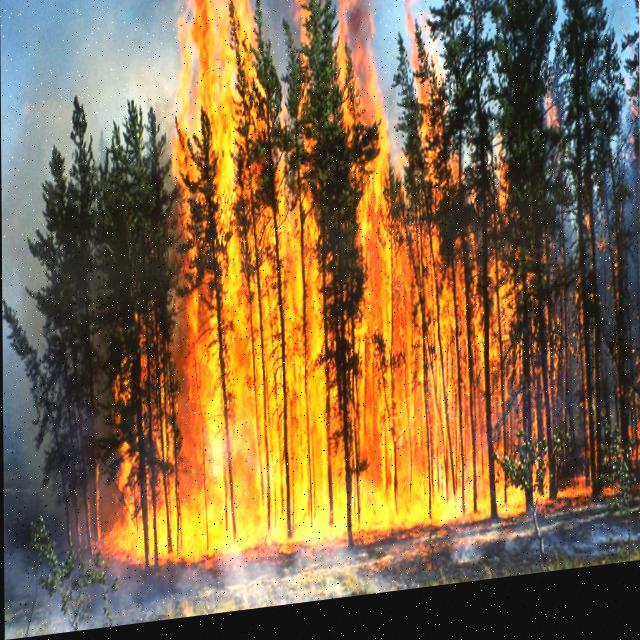Fire: (88, 0, 560, 575)
